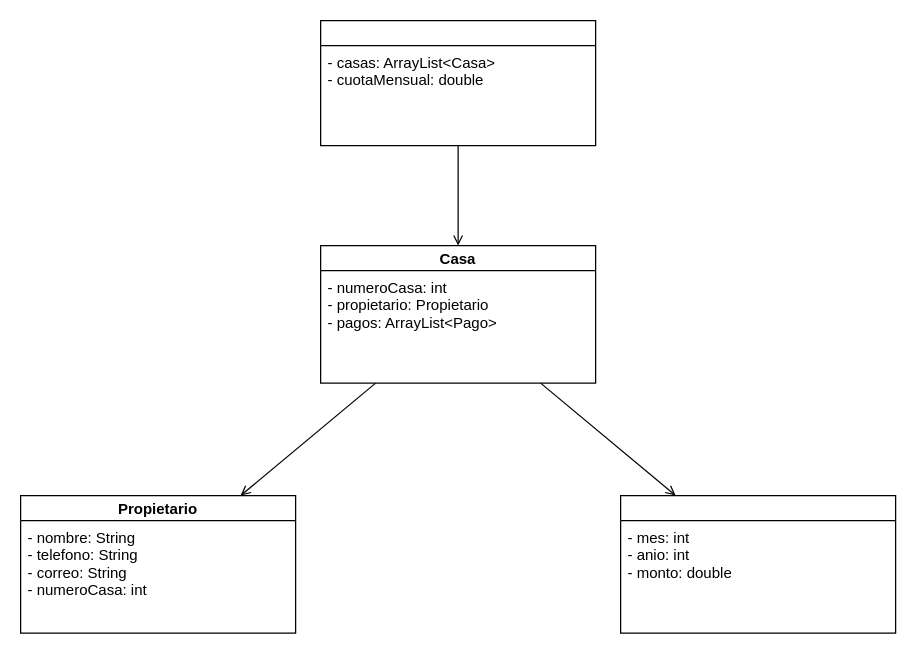
This 916x654 diagram has some shape labels left out. The shapes that lost their labels are listed below. From the top down, each one's box as (x1, y1, x2, y2) in pixels, then its label:
(319, 19, 596, 146): Condominio
(619, 494, 896, 633): Pago
